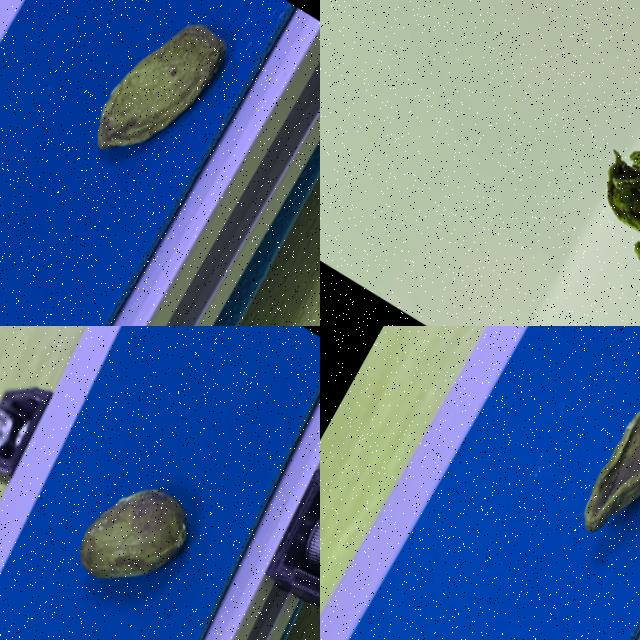Fine_cocoabeans: (7, 366, 263, 639)
Flat_cocoabeans: (34, 0, 293, 267), (503, 326, 639, 637), (520, 0, 639, 325)
